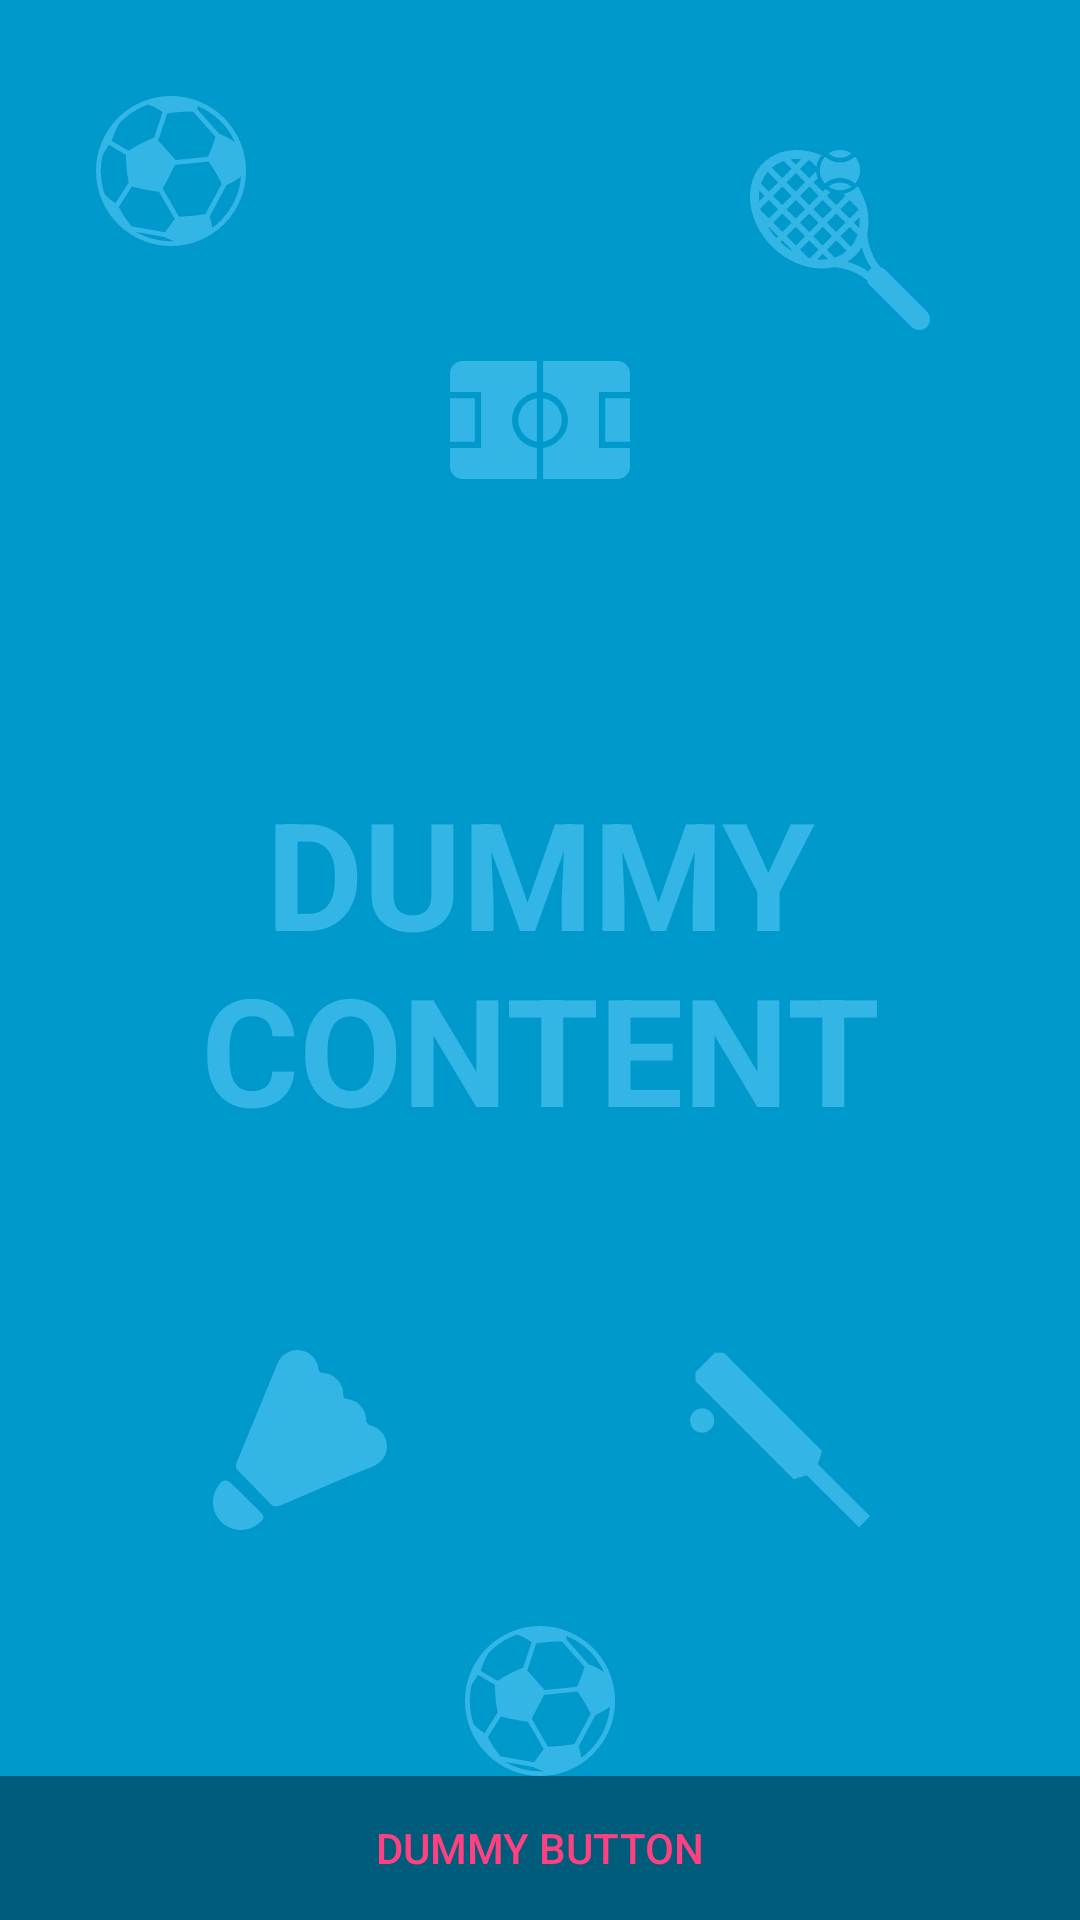

Icon bounding boxes for this 1080 × 1920 phone screenshot, format (x1, y1, x2, y2):
cricket equipment: (690, 1353, 870, 1527)
shuttlecock: (213, 1350, 387, 1530)
soccer ball variant: (96, 96, 246, 246), (465, 1626, 615, 1776)
soccer court: (450, 361, 630, 479)
tennis raquet and ball: (750, 150, 930, 330)
